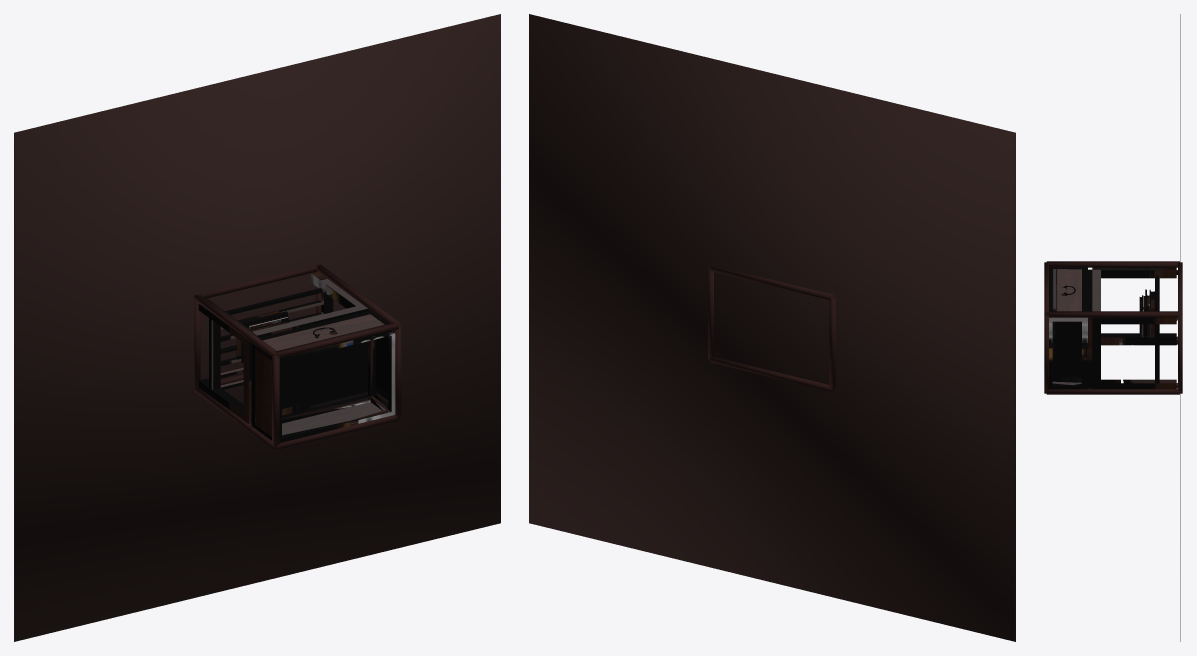
The picture shows the model from 3 angles, left to right: view 1: azimuth 30°, elevation 25°; view 2: azimuth 150°, elevation 25°; view 3: azimuth 270°, elevation 25°; orthographic projection. The views are drawn at different scales.
Size of the model in its own units: 2 by 2 by 0.5846.
